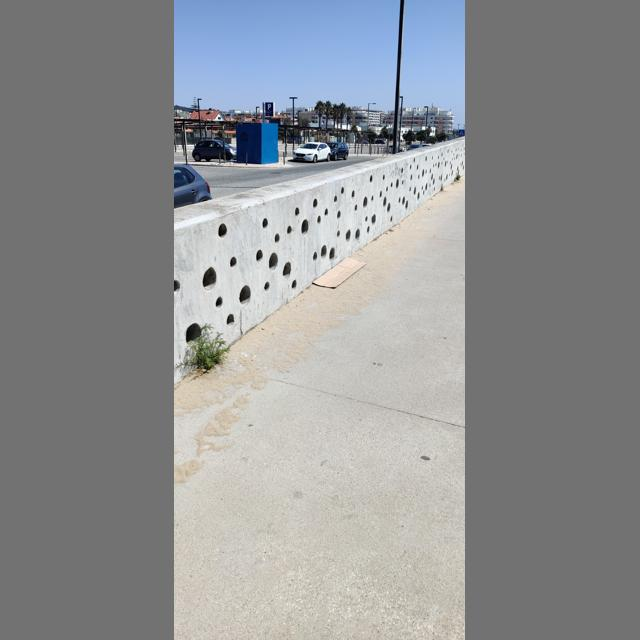litter: (313, 257, 368, 287)
